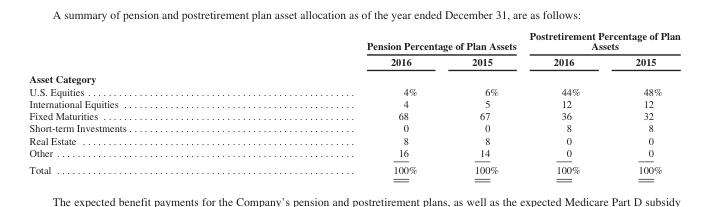table: (28, 29, 679, 175)
table column: (28, 29, 245, 175), (245, 29, 443, 175), (522, 29, 607, 175), (443, 29, 522, 175), (607, 29, 679, 175)
table column header: (28, 29, 679, 69)
table projected row header: (28, 69, 679, 85)
table row: (28, 29, 679, 53), (28, 53, 679, 69), (28, 69, 679, 85), (28, 146, 679, 161), (28, 161, 679, 175), (28, 121, 679, 134), (28, 85, 679, 97), (28, 97, 679, 109), (28, 109, 679, 121), (28, 134, 679, 146)
table spanning cell: (245, 29, 522, 53), (522, 29, 679, 53)
